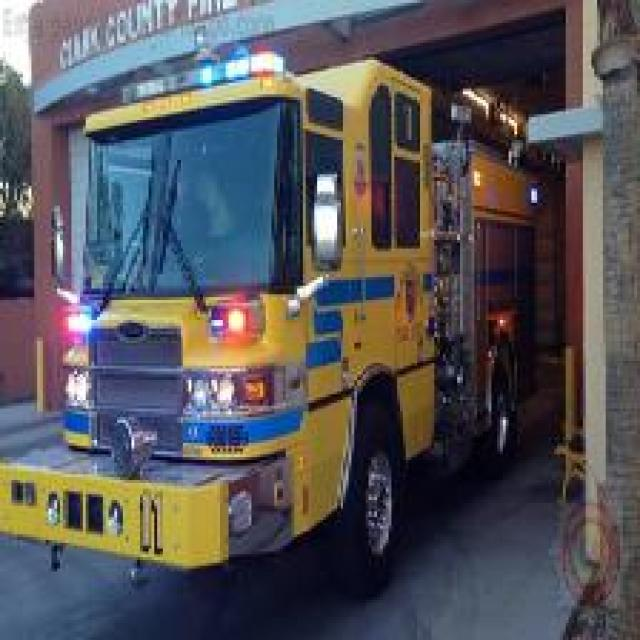Fire-truck: (0, 46, 549, 597)
